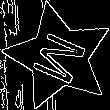M_SE: (26, 25, 92, 88)
